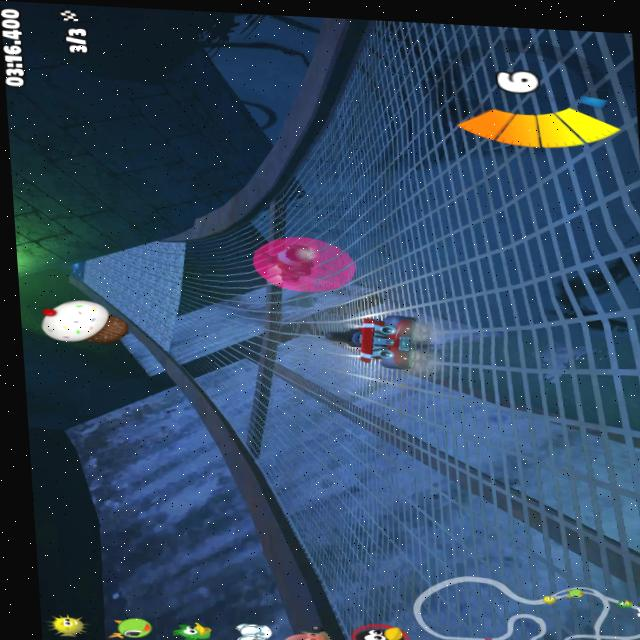player_kart: (320, 309, 430, 374)
track: (423, 22, 640, 640), (329, 368, 464, 640), (318, 17, 436, 308), (212, 220, 308, 428), (249, 361, 335, 479), (290, 126, 334, 302), (86, 261, 220, 289), (279, 474, 335, 541), (98, 283, 216, 312), (172, 308, 217, 363), (126, 242, 213, 264), (298, 536, 341, 574), (137, 306, 175, 327), (194, 362, 220, 385), (145, 328, 178, 342)
